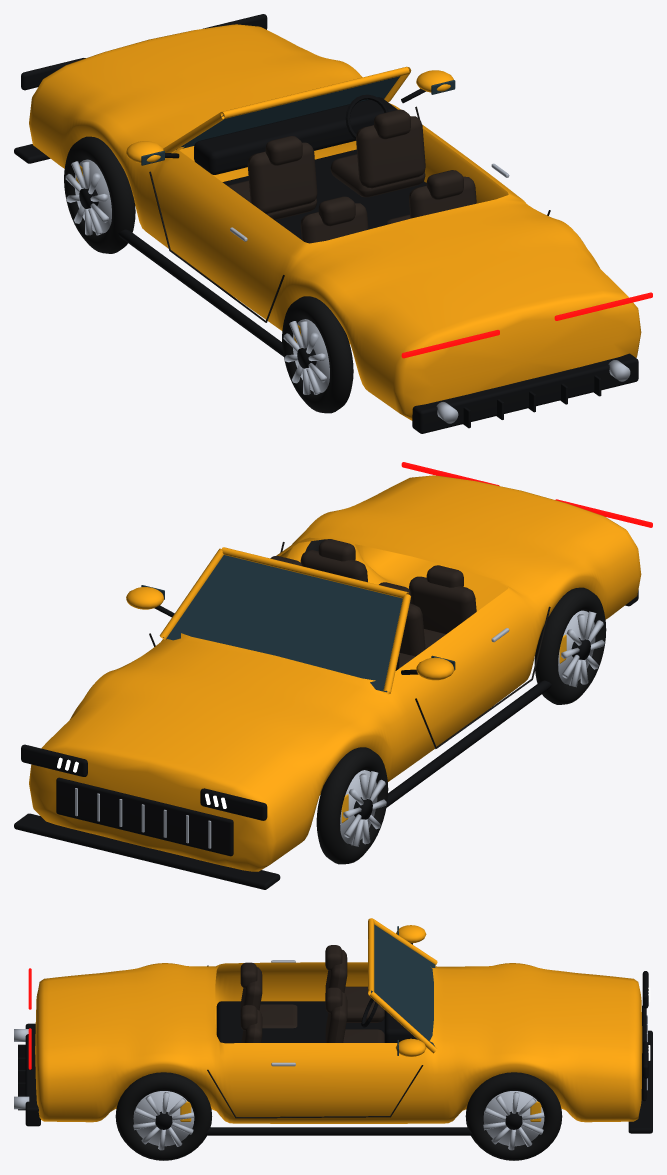
The model's file is sunset-cabrio.glb.
3 renders of one model, top to bottom at view 1: azimuth 30°, elevation 25°; view 2: azimuth 150°, elevation 25°; view 3: azimuth 270°, elevation 25°, orthographic. The views are drawn at different scales.
Visible parts, largest first — view 1: Surface_Paint, Surface_Carbon, Surface_Leather, Tire, Tire.001, Surface_Glazing, Rim_lip.001, Rim_lip, Surface_Tailights, Surface_Alloy, Surface_Panel_seams; view 2: Surface_Paint, Surface_Glazing, Surface_Carbon, Surface_Leather, Tire.001, Tire, Rim_lip, Rim_lip.001, Surface_Tailights, Surface_Alloy, Surface_Panel_seams; view 3: Surface_Paint, Surface_Carbon, Surface_Leather, Surface_Glazing, Tire.002, Tire.003, Rim_lip.003, Rim_lip.002, Surface_Alloy, Surface_Panel_seams.
Boxes of the visible parts, x1=… form: Surface_Paint: x1=29, y1=24, x2=641, y2=420; Surface_Carbon: x1=14, y1=14, x2=638, y2=433; Surface_Leather: x1=228, y1=109, x2=476, y2=243; Tire: x1=282, y1=296, x2=353, y2=413; Tire.001: x1=64, y1=136, x2=135, y2=253; Surface_Glazing: x1=141, y1=76, x2=455, y2=165; Rim_lip.001: x1=65, y1=159, x2=111, y2=235; Rim_lip: x1=283, y1=319, x2=329, y2=394; Surface_Tailights: x1=401, y1=292, x2=652, y2=358; Surface_Alloy: x1=230, y1=163, x2=630, y2=423; Surface_Panel_seams: x1=149, y1=106, x2=550, y2=322; Surface_Paint: x1=29, y1=475, x2=641, y2=871; Surface_Glazing: x1=141, y1=555, x2=455, y2=692; Surface_Carbon: x1=14, y1=590, x2=638, y2=889; Surface_Leather: x1=270, y1=539, x2=476, y2=668; Tire.001: x1=316, y1=747, x2=388, y2=864; Tire: x1=534, y1=587, x2=606, y2=704; Rim_lip: x1=558, y1=610, x2=604, y2=687; Rim_lip.001: x1=340, y1=770, x2=386, y2=846; Surface_Tailights: x1=401, y1=462, x2=652, y2=527; Surface_Alloy: x1=75, y1=628, x2=509, y2=848; Surface_Panel_seams: x1=149, y1=542, x2=550, y2=748; Surface_Paint: x1=35, y1=918, x2=642, y2=1123; Surface_Carbon: x1=18, y1=943, x2=652, y2=1135; Surface_Leather: x1=240, y1=945, x2=384, y2=1042; Surface_Glazing: x1=371, y1=924, x2=435, y2=1055; Tire.002: x1=115, y1=1072, x2=212, y2=1160; Tire.003: x1=465, y1=1072, x2=562, y2=1160; Rim_lip.003: x1=483, y1=1091, x2=544, y2=1150; Rim_lip.002: x1=133, y1=1091, x2=194, y2=1150; Surface_Alloy: x1=14, y1=960, x2=647, y2=1109; Surface_Panel_seams: x1=207, y1=965, x2=423, y2=1118.
Size of the model in its own units: 2.33 by 1.34 by 4.97.
